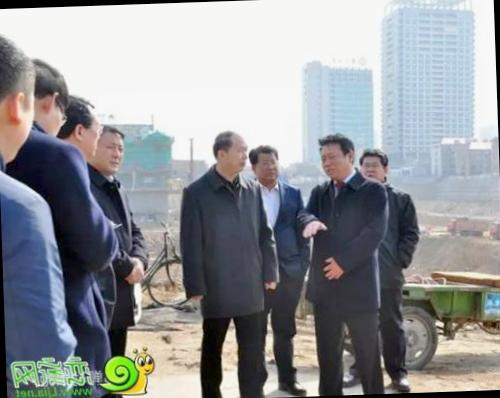no_helmet: (0, 30, 41, 172), (29, 56, 67, 138), (60, 90, 103, 156), (88, 121, 134, 179), (314, 127, 359, 180), (209, 127, 250, 177), (246, 141, 284, 190), (356, 147, 392, 187)
